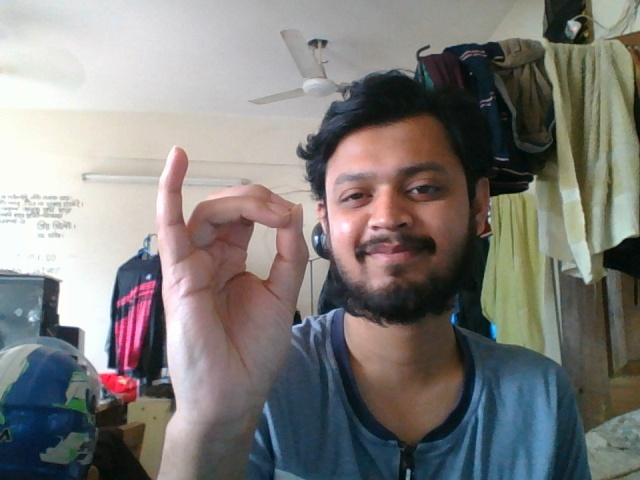ou: (145, 138, 314, 460)
